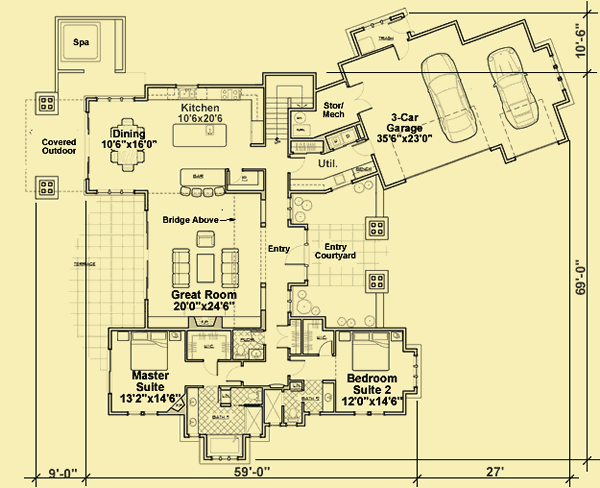bedroom has a double bed with bedside stands: (335, 329, 421, 420)
hall has a dining table for eating: (84, 98, 161, 196)
kitchen has a kitchen bar with cooking range and sink: (162, 84, 266, 188)
livingroom has two large sofa and small sofa with center table: (145, 184, 265, 334)
master bathroom has a dual sink, large sink, and shower space: (263, 377, 335, 433)
master bathroom has a dual sink, large sink, tub and shower space: (184, 385, 264, 463)
master bedroom has double bed with bedside stools: (106, 326, 186, 419)
open area has stairs: (264, 74, 330, 184)
small bathroom with large sink and small sink: (231, 325, 268, 361)
there is a garage with two car parking: (342, 27, 570, 185)
